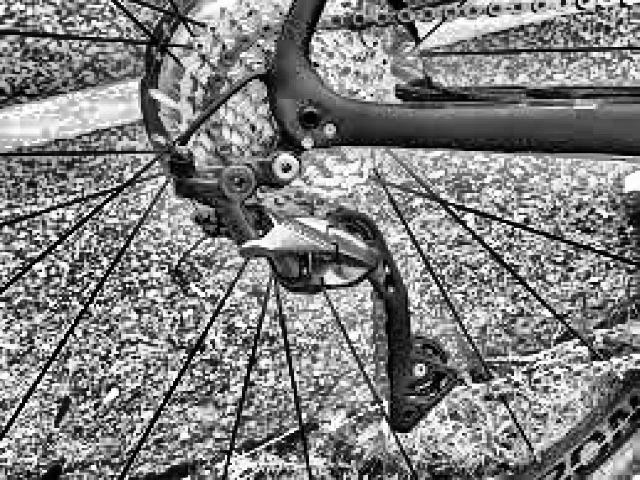cassette: (179, 4, 401, 204)
rear_derailleur: (164, 141, 462, 438)
